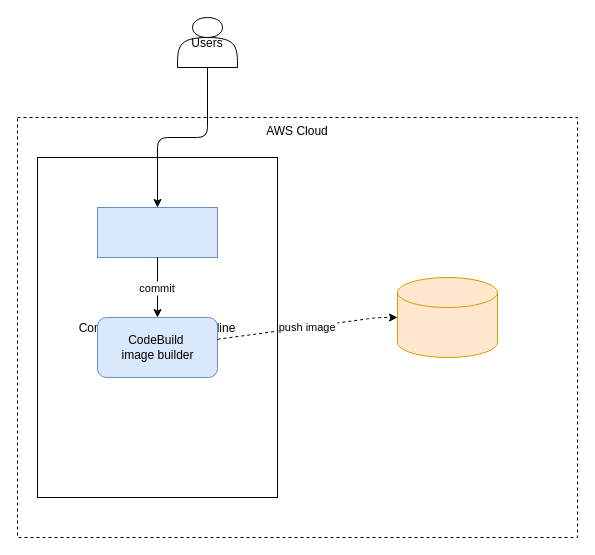
Image size: 595x555. Some labels were removed from this diagram. Here are the shapes that lost their labels. From the top down, the centre of each, then its label:
At [157,232]: "AWS CodeCommit".
At [447,317]: "Amazon ECR".
